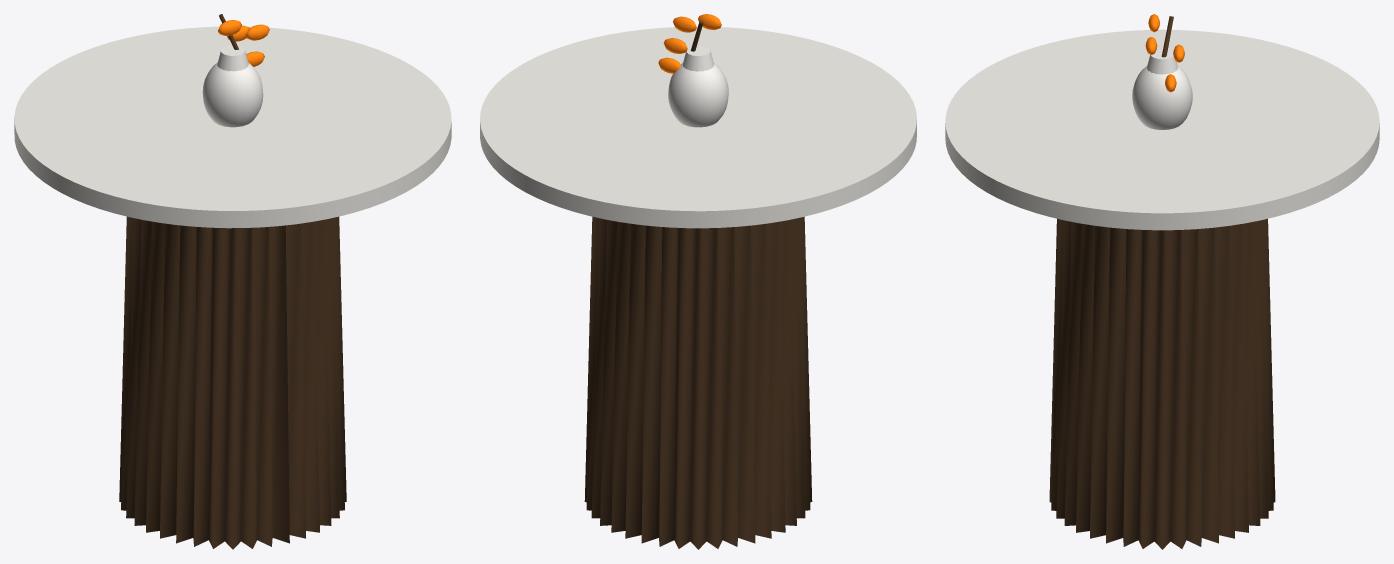
File: magnus-table.glb
3 views of the same model, side by side, from view 1: azimuth 30°, elevation 25°; view 2: azimuth 150°, elevation 25°; view 3: azimuth 270°, elevation 25° (orthographic).
Visible parts, largest first — view 1: Magnus31RoundTable; view 2: Magnus31RoundTable; view 3: Magnus31RoundTable.
Boxes of the visible parts, bbox=[...] form: Magnus31RoundTable: bbox=[14, 14, 451, 549]; Magnus31RoundTable: bbox=[480, 14, 916, 549]; Magnus31RoundTable: bbox=[945, 14, 1379, 549].
Size of the model in its own units: 0.788 by 0.9664 by 0.788.
